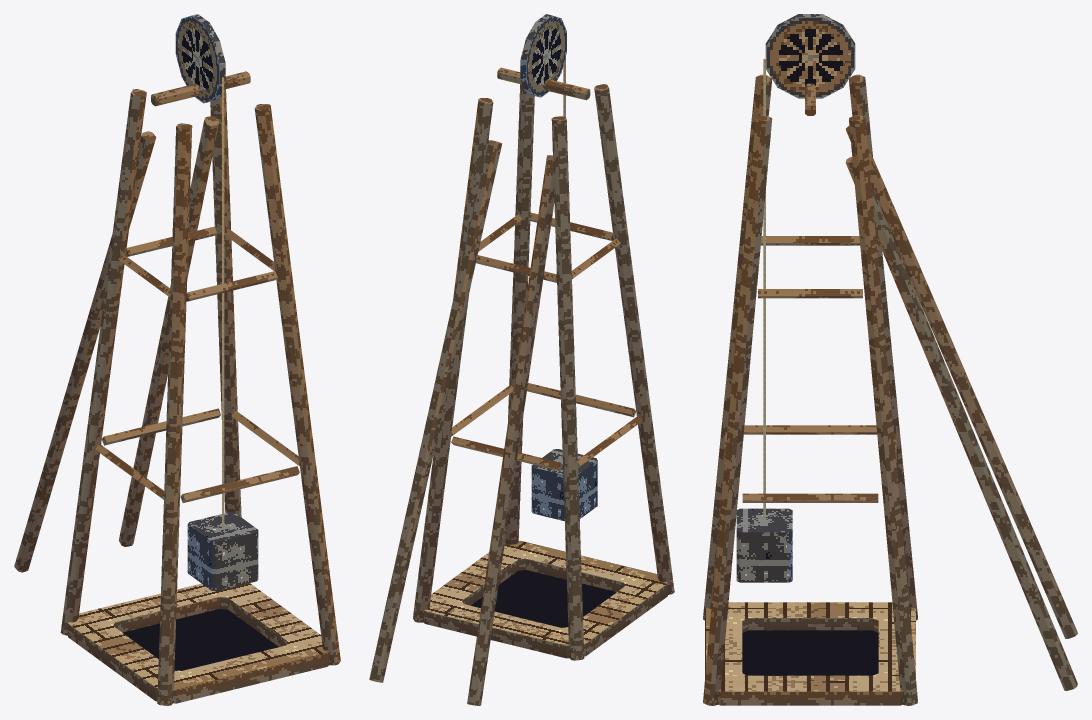
File: wmine.headframe__tall.glb
3 views of the same model, side by side, from view 1: azimuth 30°, elevation 25°; view 2: azimuth 150°, elevation 25°; view 3: azimuth 270°, elevation 25° (orthographic). The views are drawn at different scales.
Visible parts, largest first — view 1: kit_legs, kit_collar, kit_backs, kit_girts, kit_card_shaft, kit_cage, kit_sheave, kit_rope, kit_sheave_axle; view 2: kit_legs, kit_backs, kit_collar, kit_girts, kit_card_shaft, kit_cage, kit_sheave, kit_sheave_axle; view 3: kit_legs, kit_backs, kit_collar, kit_card_shaft, kit_sheave, kit_girts, kit_cage, kit_rope.
Boxes of the visible parts, left/top/right/bottom form: kit_legs: left=60, top=89, right=340, bottom=705; kit_collar: left=68, top=583, right=328, bottom=703; kit_backs: left=14, top=116, right=219, bottom=572; kit_girts: left=95, top=226, right=299, bottom=502; kit_card_shaft: left=123, top=609, right=278, bottom=670; kit_cage: left=187, top=512, right=258, bottom=591; kit_sheave: left=175, top=14, right=225, bottom=103; kit_rope: left=222, top=77, right=224, bottom=527; kit_sheave_axle: left=151, top=71, right=250, bottom=106; kit_legs: left=413, top=84, right=674, bottom=660; kit_backs: left=369, top=140, right=554, bottom=705; kit_collar: left=424, top=541, right=667, bottom=658; kit_girts: left=451, top=212, right=642, bottom=470; kit_card_shaft: left=471, top=570, right=616, bottom=627; kit_cage: left=531, top=449, right=597, bottom=521; kit_sheave: left=520, top=14, right=566, bottom=97; kit_sheave_axle: left=497, top=67, right=590, bottom=100; kit_legs: left=703, top=74, right=917, bottom=705; kit_backs: left=845, top=126, right=1077, bottom=690; kit_collar: left=705, top=602, right=915, bottom=705; kit_card_shaft: left=742, top=630, right=878, bottom=675; kit_sheave: left=765, top=14, right=855, bottom=98; kit_girts: left=724, top=236, right=896, bottom=502; kit_cage: left=736, top=508, right=792, bottom=582; kit_rope: left=763, top=58, right=765, bottom=520.
Size of the model in its own units: 3.46 by 11.51 by 6.04.
Materials: 6 (6 with a texture image).
